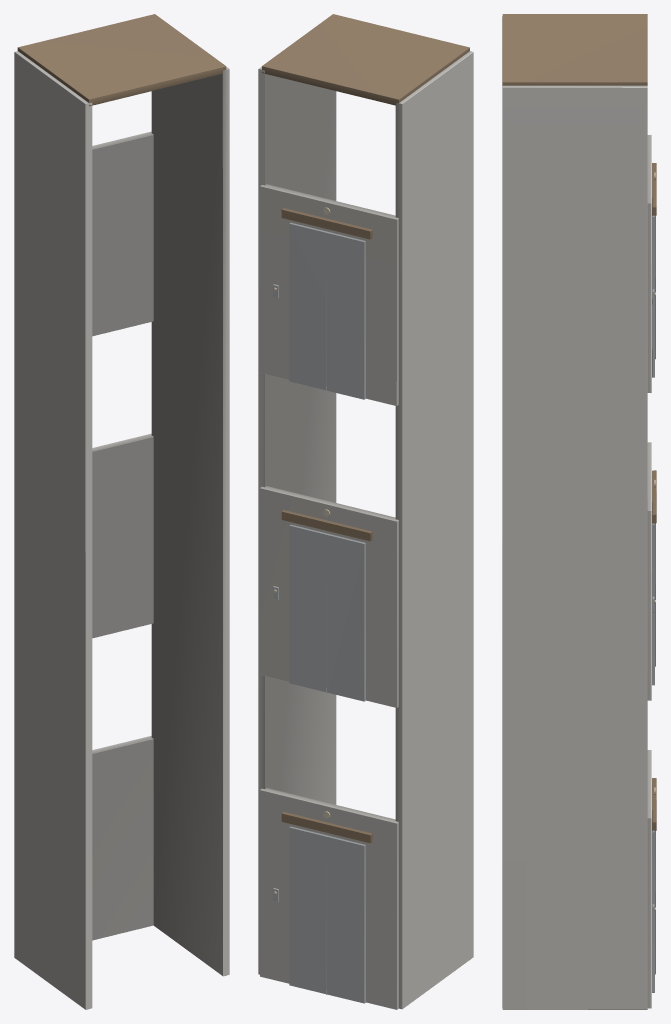
File: petshop_elevator3_low.glb
The picture shows the model from 3 angles, left to right: view 1: azimuth 30°, elevation 25°; view 2: azimuth 150°, elevation 25°; view 3: azimuth 270°, elevation 25°; orthographic projection.
Size of the model in its own units: 2.1 by 12.65 by 1.91.
